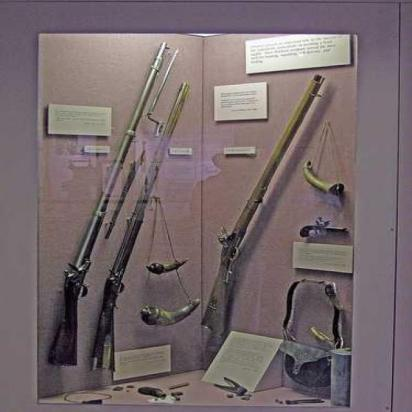Gun: (79, 75, 235, 375), (39, 41, 178, 366), (195, 73, 336, 338)
